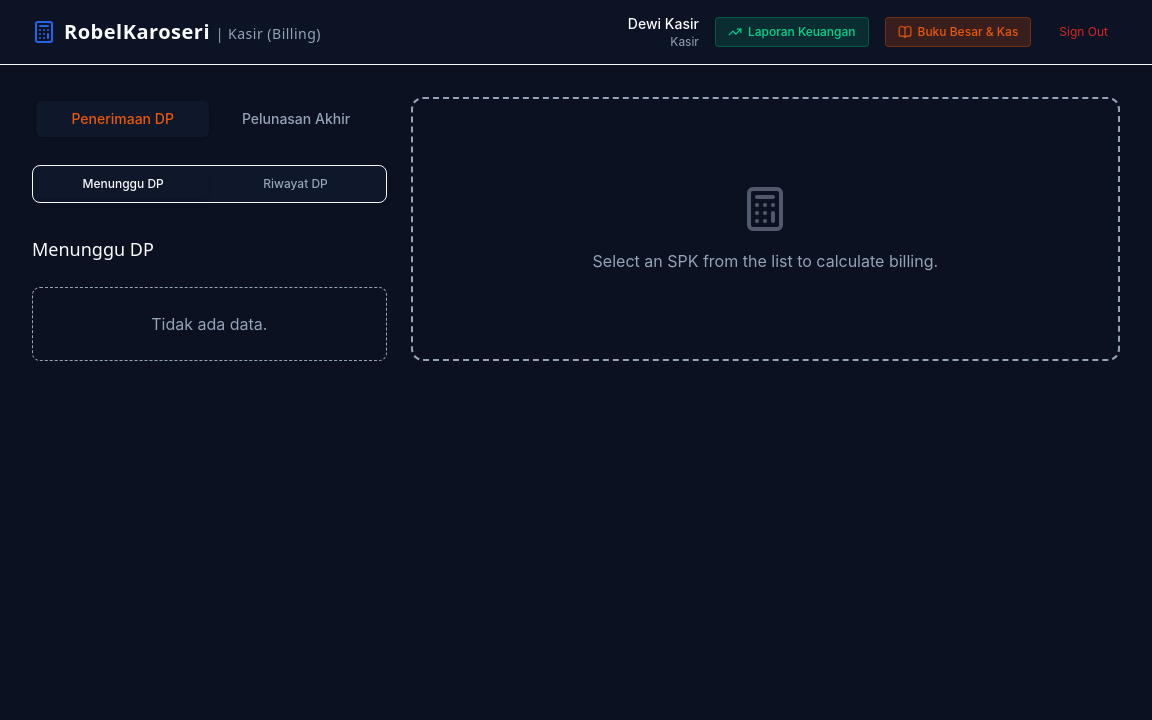
Scenario: Component: KasirDashboard (Approved Change Order Itemized Breakdown & Accordion) › renders SPK in Pelunasan Akhir, fetches change orders, and toggles itemized accordion with legal dispute details
Note: Switch to "Pelunasan Akhir" (FINAL tab)
Click the button "Pelunasan Akhir". click: (296, 119)
box: [209,101,383,137]
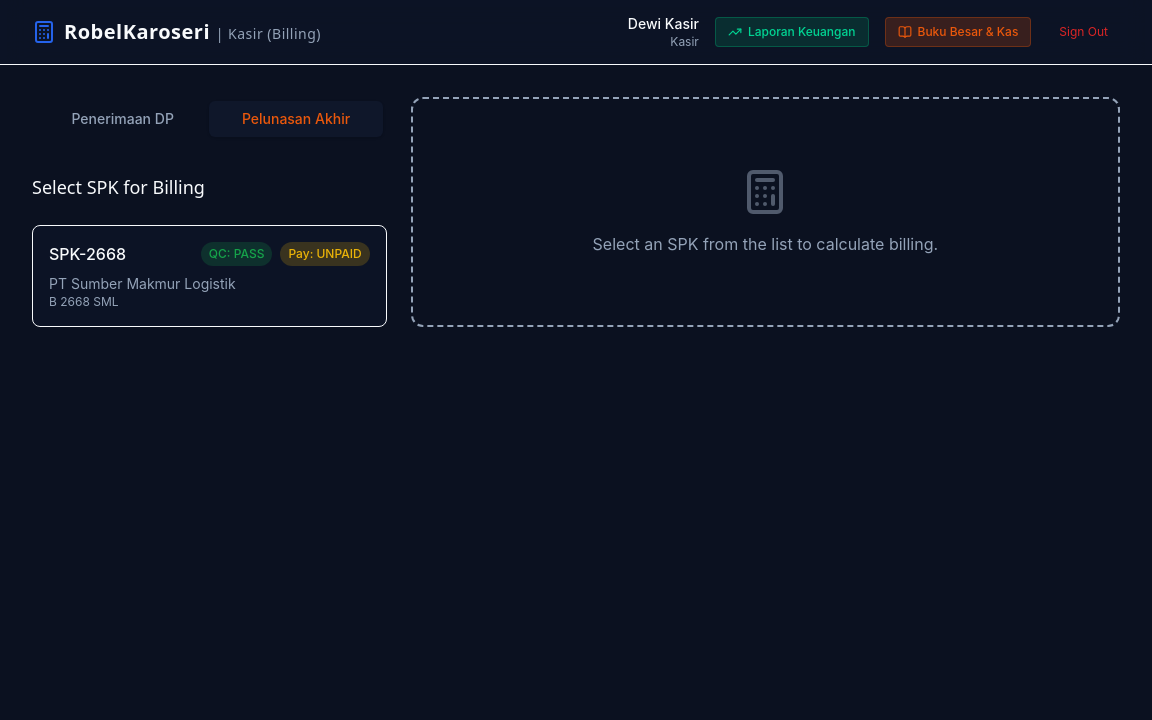
expect the heading "SPK-2668" is shown: met
Note: Click the SPK card to select it
Click the heading "SPK-2668". click: (88, 254)
box: [49,242,126,266]
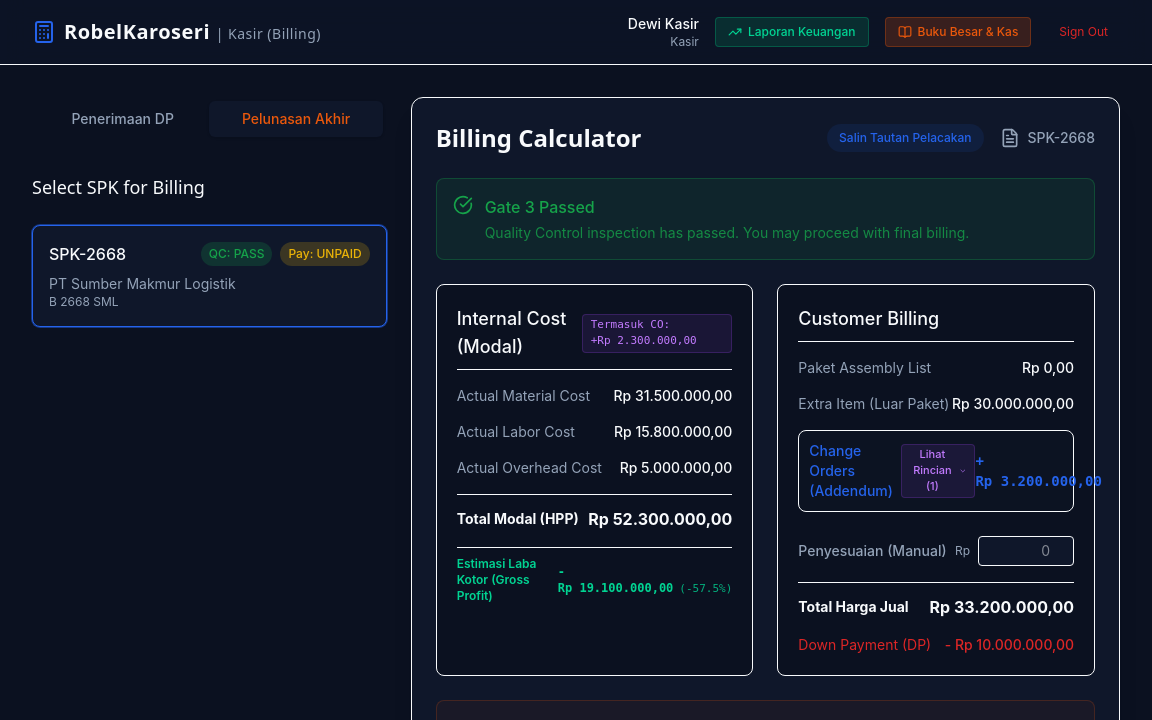
expect the text "Rincian Pekerjaan Tambahan (Di Luar Kontrak Awal)" is not shown: met
expect the text "Change Orders (Addendum)" is shown: met, box [809,441,893,501]
expect the button "Lihat Rincian (1)" is shown: met
Note: Click "Lihat Rincian (1)" to expand accordion
Click the button "Lihat Rincian (1)". click: (938, 471)
box: [901,444,975,498]
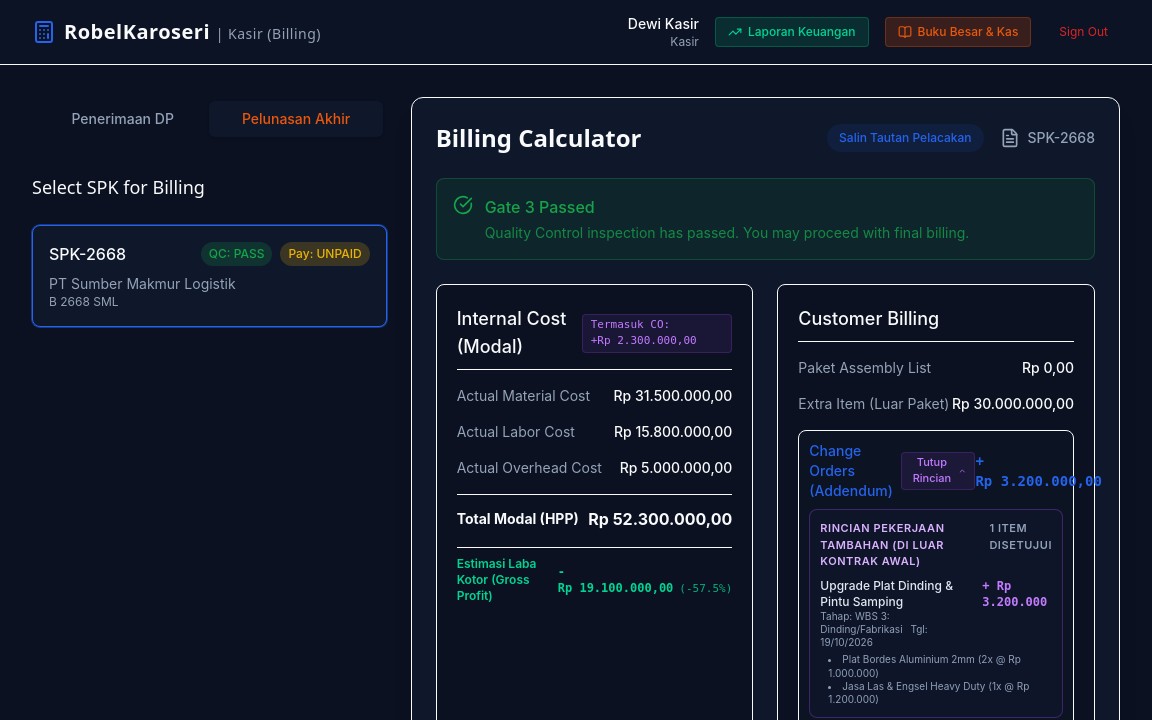
expect the text "Rincian Pekerjaan Tambahan (Di Luar Kontrak Awal)" is shown: met, box [820,521,944,568]
expect the text "1 Item Disetujui" is shown: met, box [989,520,1052,570]
expect the text "Upgrade Plat Dinding & Pintu Samping" is shown: met, box [820,578,953,608]
Note: Click "Tutup Rincian" and verify it collapses
Click the button "Tutup Rincian". click: (938, 471)
box: [901,452,975,490]
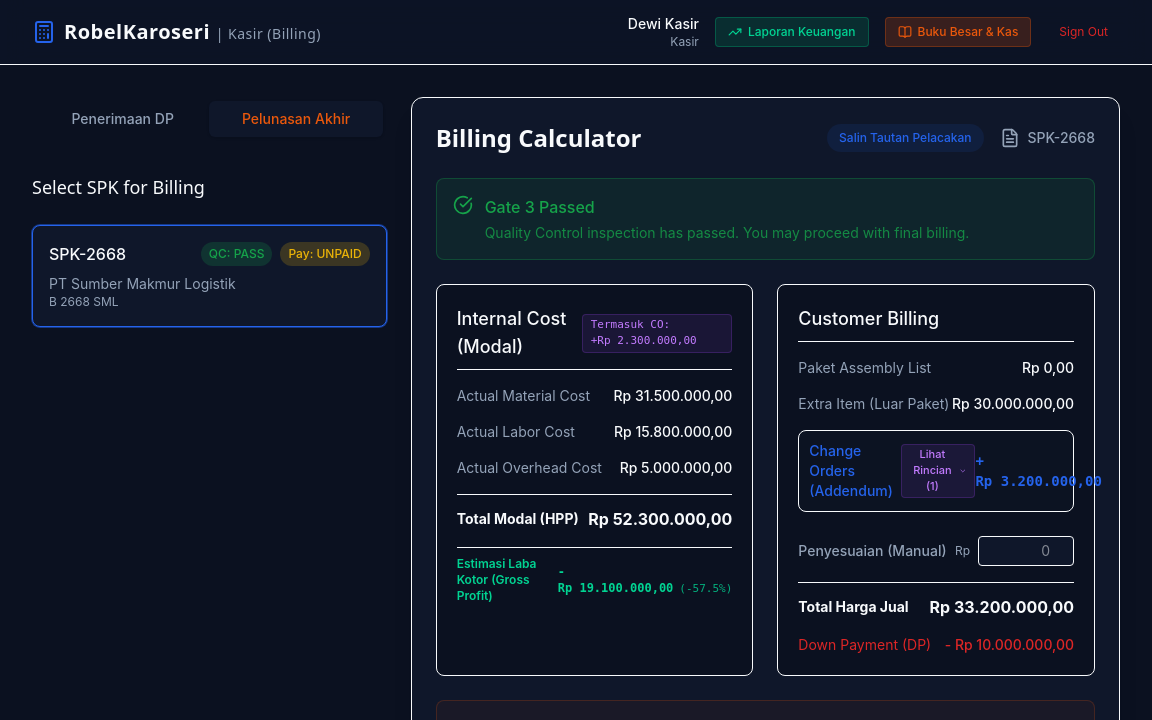
expect the text "Rincian Pekerjaan Tambahan (Di Luar Kontrak Awal)" is gone: met
